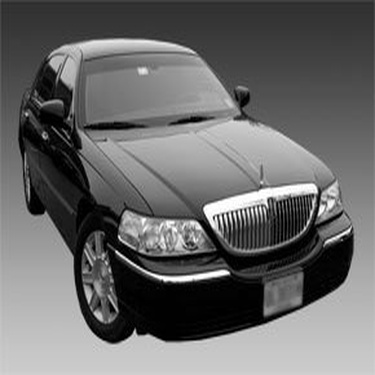car: (1, 25, 374, 343)
